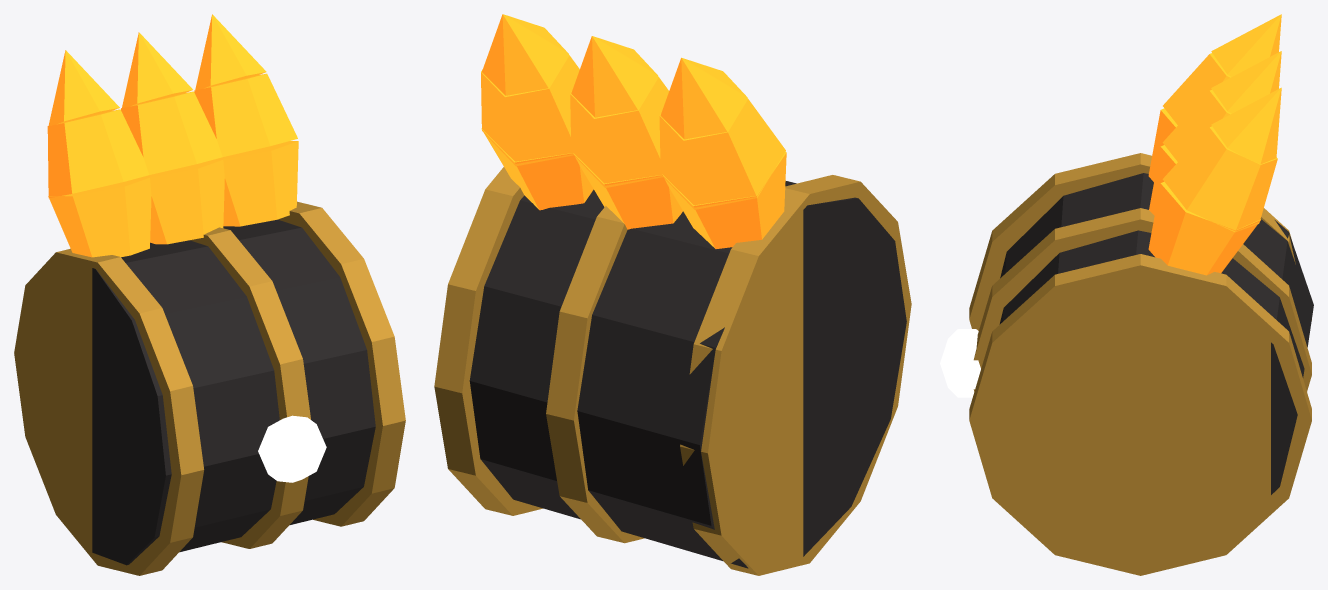
Rendered from ember_queen_bracer_l.glb.
3 views of the same model, side by side, from view 1: azimuth 30°, elevation 25°; view 2: azimuth 150°, elevation 25°; view 3: azimuth 270°, elevation 25° (orthographic). The views are drawn at different scales.
Parts seen in each view (by area): view 1: ember_queen_bracer_l; view 2: ember_queen_bracer_l; view 3: ember_queen_bracer_l.
Boxes of the visible parts, box(x1,y1,x2,y2) form: ember_queen_bracer_l: box(14, 14, 405, 575); ember_queen_bracer_l: box(434, 14, 911, 575); ember_queen_bracer_l: box(940, 14, 1313, 575).
Bounding box in the file's own units: 0.2523 × 0.476 × 0.3447.
